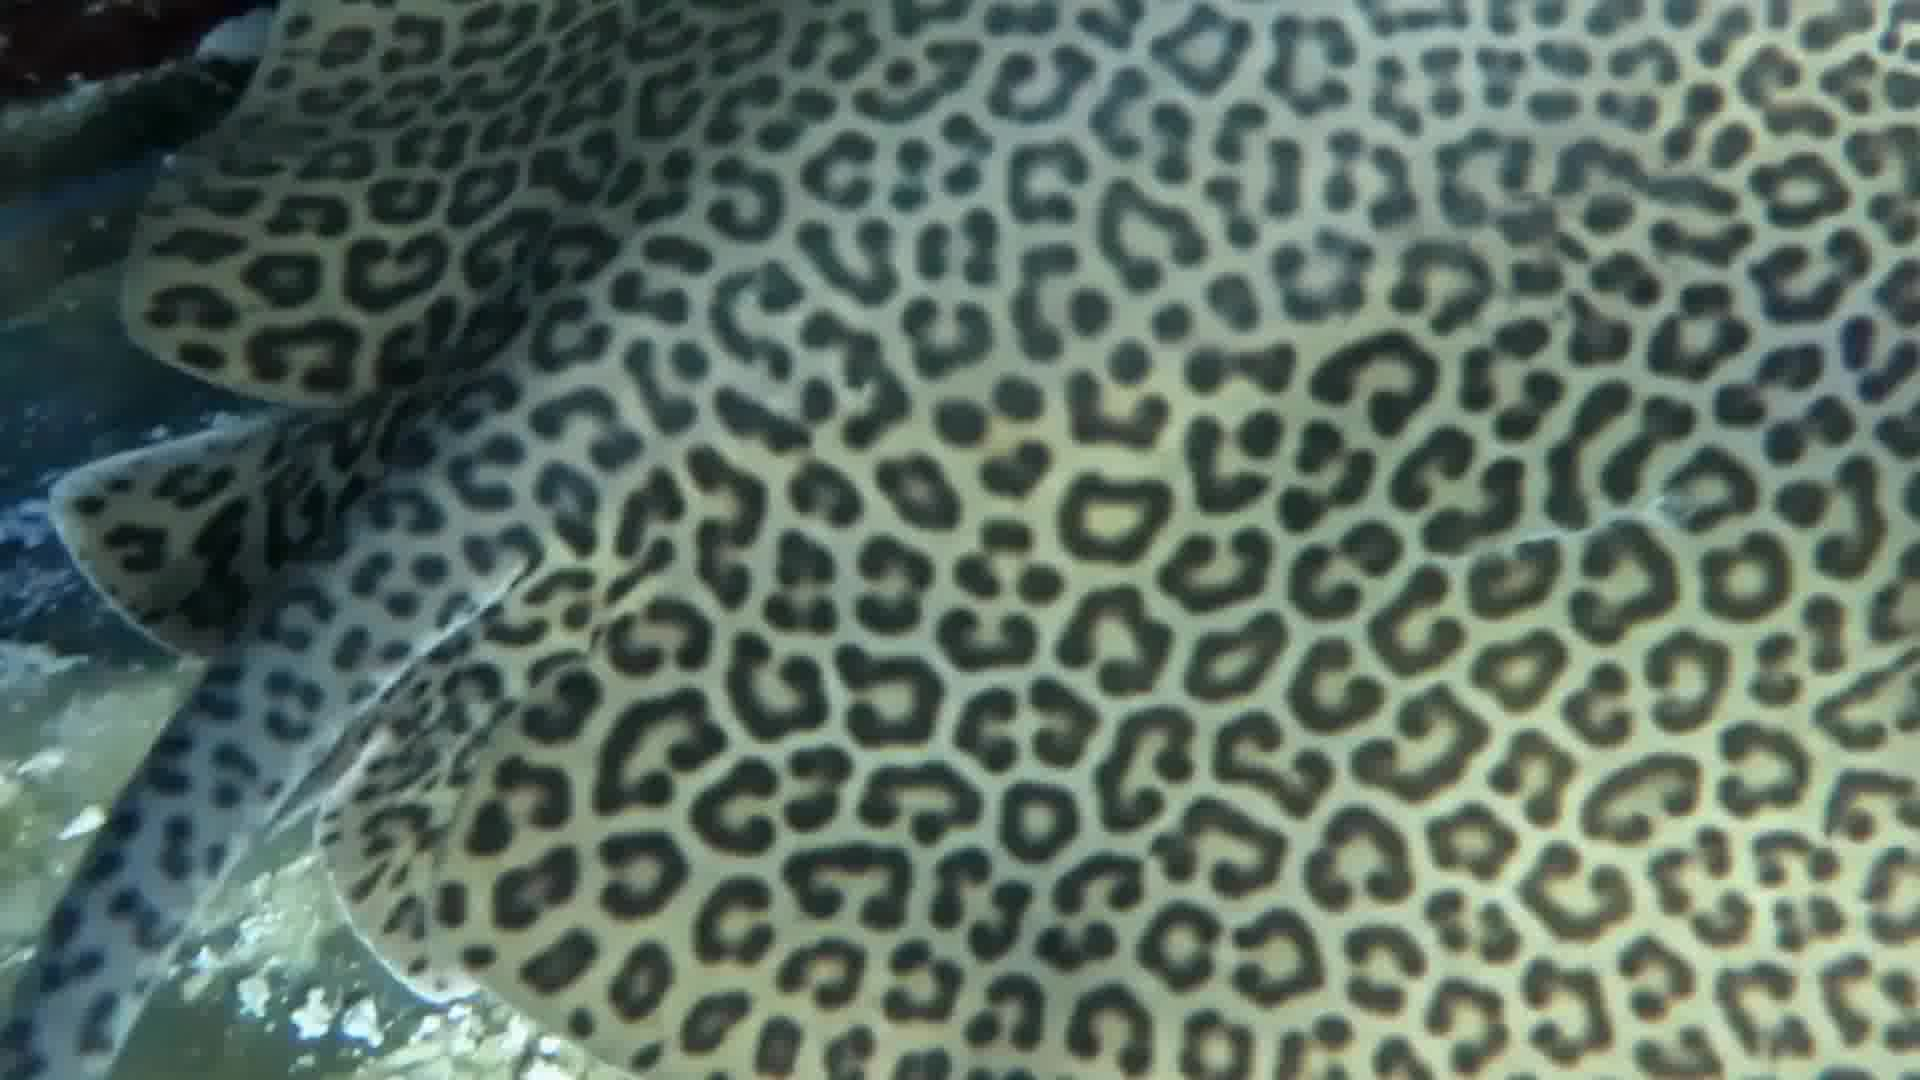Himantura uarnak: (29, 1, 1920, 1080)
